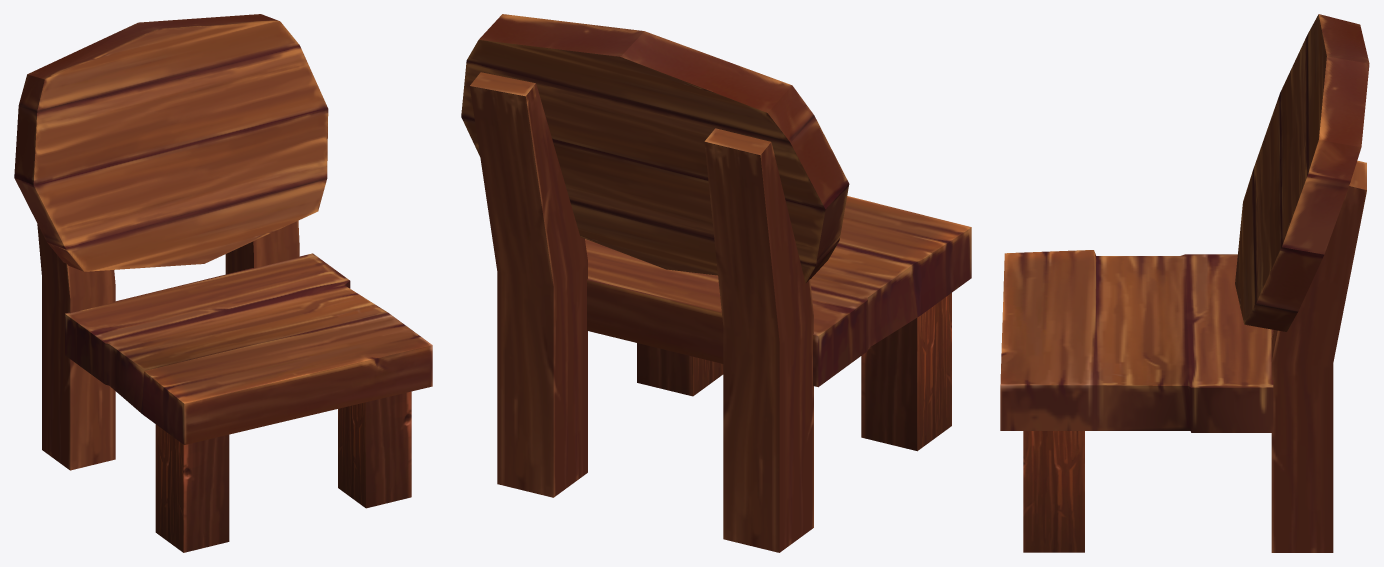
Rendered from YiZi04.FBX.
3 views of the same model, side by side, from view 1: azimuth 30°, elevation 25°; view 2: azimuth 150°, elevation 25°; view 3: azimuth 270°, elevation 25° (orthographic). The views are drawn at different scales.
Parts seen in each view (by area): view 1: 对象023; view 2: 对象023; view 3: 对象023.
Boxes of the visible parts, x1,y1,x2,y2 form: 对象023: [14, 14, 432, 552]; 对象023: [461, 14, 971, 552]; 对象023: [1000, 14, 1369, 552].
Bounding box in the file's own units: 44.5 × 56.82 × 43.78.
